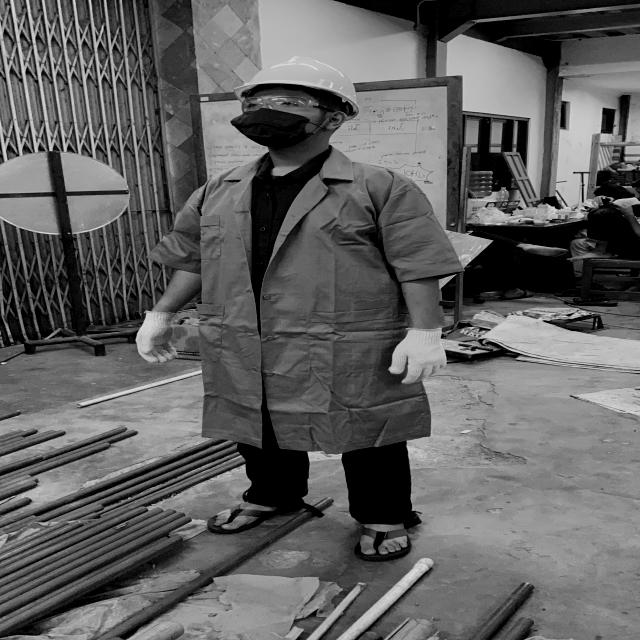face_mask: (234, 90, 322, 146)
glasses: (236, 94, 340, 114)
hand_glove: (378, 322, 459, 385), (120, 310, 197, 367)
head_helmet: (224, 54, 358, 106)
person: (136, 51, 454, 571)
